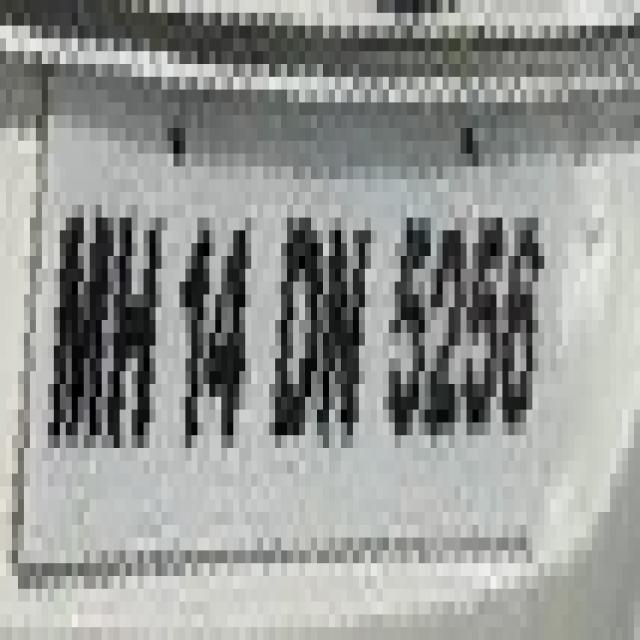license_plate: (0, 167, 610, 538)
